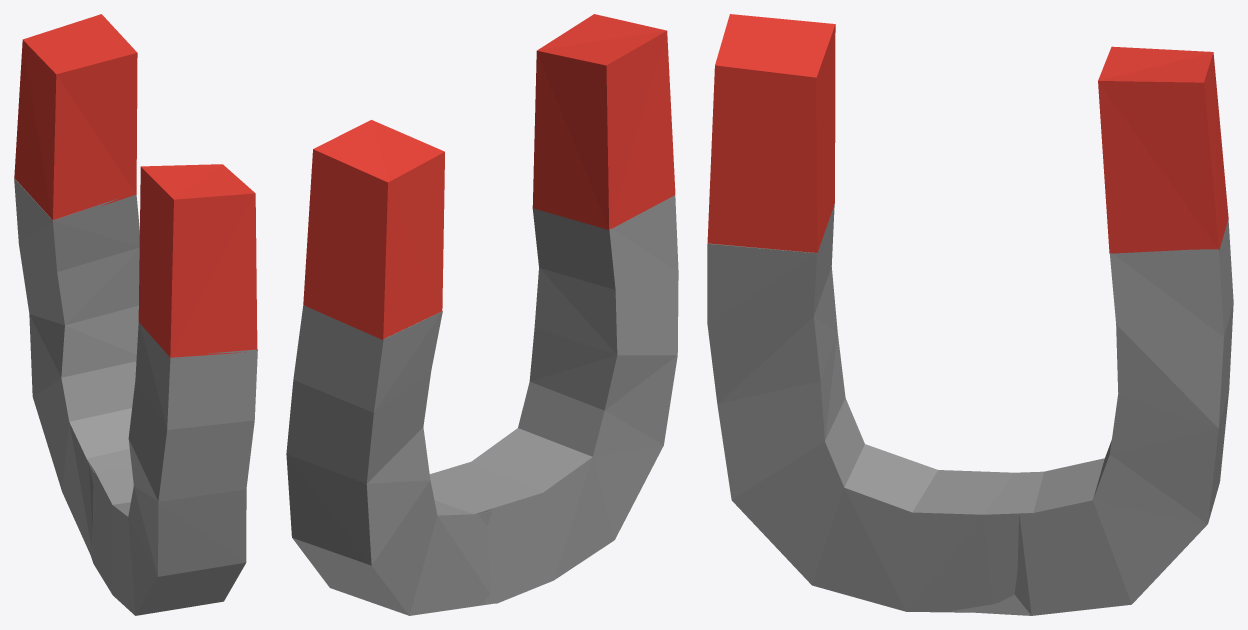
File: Magnet.fbx
3 views of the same model, side by side, from view 1: azimuth 30°, elevation 25°; view 2: azimuth 150°, elevation 25°; view 3: azimuth 270°, elevation 25° (orthographic). The views are drawn at different scales.
Parts seen in each view (by area): view 1: group_1023498138; view 2: group_1023498138; view 3: group_1023498138.
Part boxes in pixels (left/top/right/bottom): group_1023498138: left=14, top=14, right=257, bottom=615; group_1023498138: left=286, top=14, right=678, bottom=615; group_1023498138: left=707, top=14, right=1233, bottom=615.
Bounding box in the file's own units: 40.4 × 111 × 97.19.
